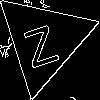Z: (18, 15, 61, 69)
